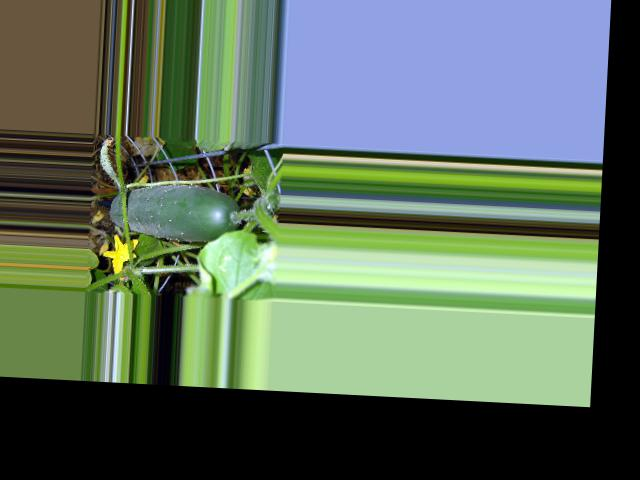cucumber: (109, 179, 242, 243)
